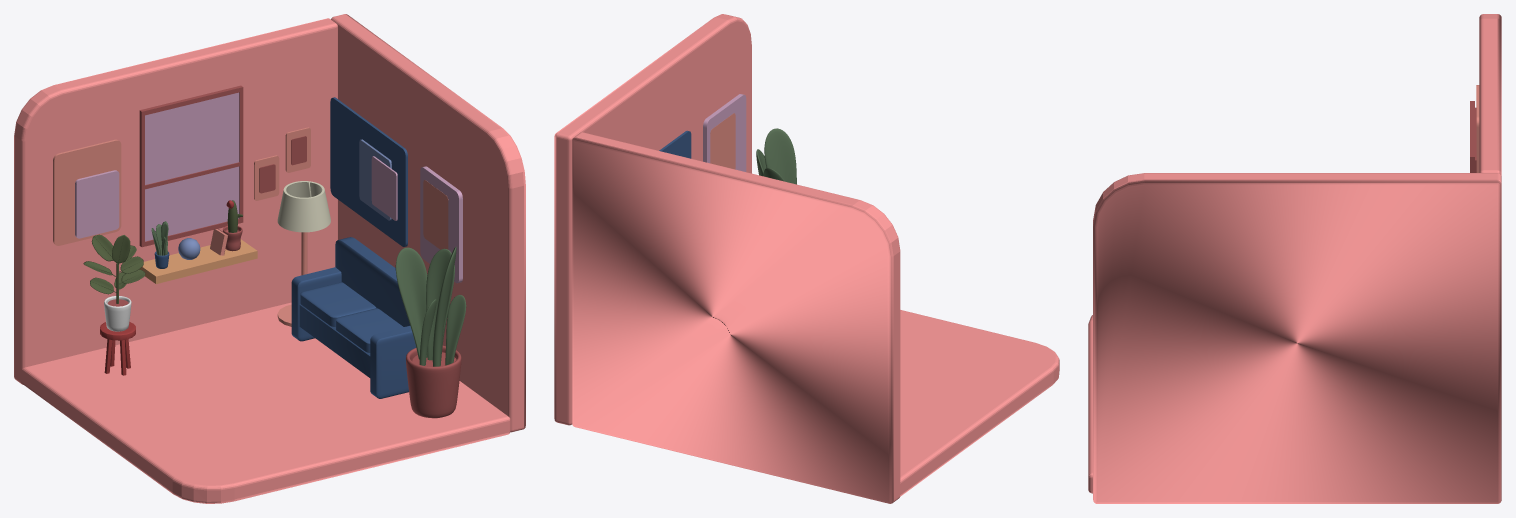
File: room.glb
3 views of the same model, side by side, from view 1: azimuth 30°, elevation 25°; view 2: azimuth 150°, elevation 25°; view 3: azimuth 270°, elevation 25° (orthographic). The views are drawn at different scales.
Visible parts, largest first — view 1: Rectangle, Rectangle 3, Rectangle 2, Sillon.001, Vidrio, Cuadro3, Cuadro0, Marco, Maceta.003, Cuadro10, Pantalla, Cuadro5 (+13 smaller); view 2: Rectangle, Rectangle 2, Rectangle 3, Cuadro5, Hojas1.001, Cuadro4; view 3: Rectangle 2, Rectangle, Rectangle 3, Marco.
Part boxes in pixels (x1,y1,x2,y2): Rectangle: (14,18,337,384); Rectangle 3: (16,302,510,503); Rectangle 2: (331,14,525,432); Sillon.001: (291,237,416,398); Vidrio: (145,92,239,241); Cuadro3: (330,97,407,246); Cuadro0: (53,139,121,245); Marco: (139,85,243,247); Maceta.003: (405,345,461,418); Cuadro10: (75,170,119,238); Pantalla: (277,181,330,232); Cuadro5: (420,166,462,283); Rectangle: (572,132,900,503); Rectangle 2: (554,14,751,425); Rectangle 3: (896,310,1059,497); Cuadro5: (703,94,746,171); Hojas1.001: (764,128,796,184); Cuadro4: (710,113,735,169); Rectangle 2: (1093,173,1501,503); Rectangle: (1479,14,1501,175); Rectangle 3: (1088,315,1092,493); Marco: (1470,101,1476,172).
Size of the model in its own units: 143 by 117 by 135.
